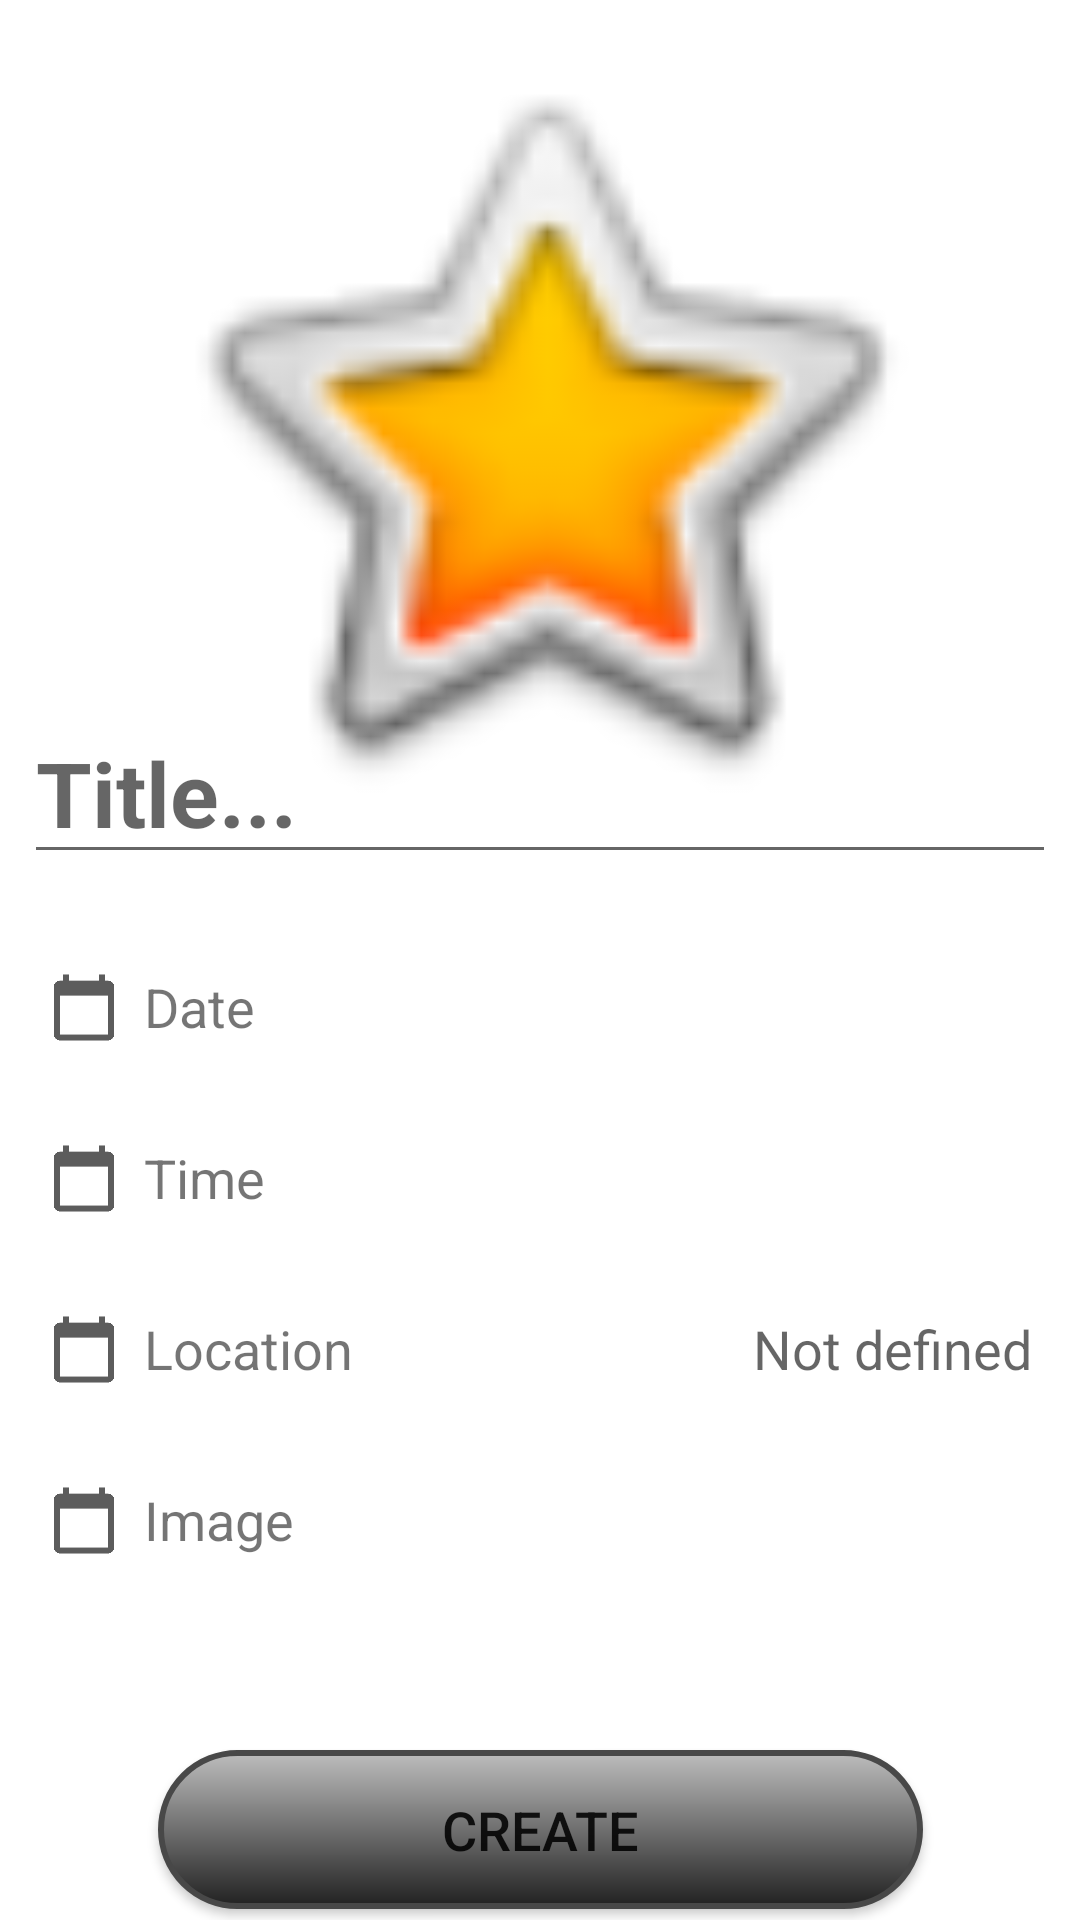

Screen size 1080w x 1920h. Icon name, then its center in pixels as (x,y):
calendar today: (84,1007), (84,1178), (84,1349), (84,1520)
